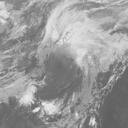cyclone: (38, 38, 102, 93)
